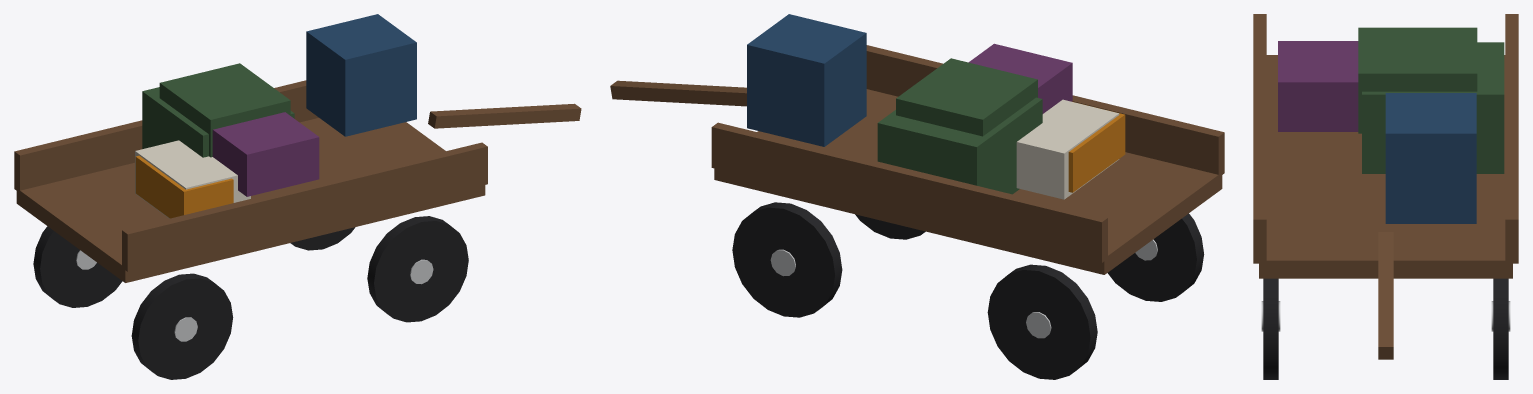
Rendered from KIT_HANDCART.glb.
The picture shows the model from 3 angles, left to right: view 1: azimuth 30°, elevation 25°; view 2: azimuth 150°, elevation 25°; view 3: azimuth 270°, elevation 25°; orthographic projection. The views are drawn at different scales.
Visible parts, largest first — view 1: KIT_HANDCART; view 2: KIT_HANDCART; view 3: KIT_HANDCART.
Boxes of the visible parts, <box> form: KIT_HANDCART: <box>14,14,581,379</box>; KIT_HANDCART: <box>610,14,1224,379</box>; KIT_HANDCART: <box>1253,14,1518,379</box>.
Bounding box in the file's own units: 3.1 × 1.34 × 1.2.
